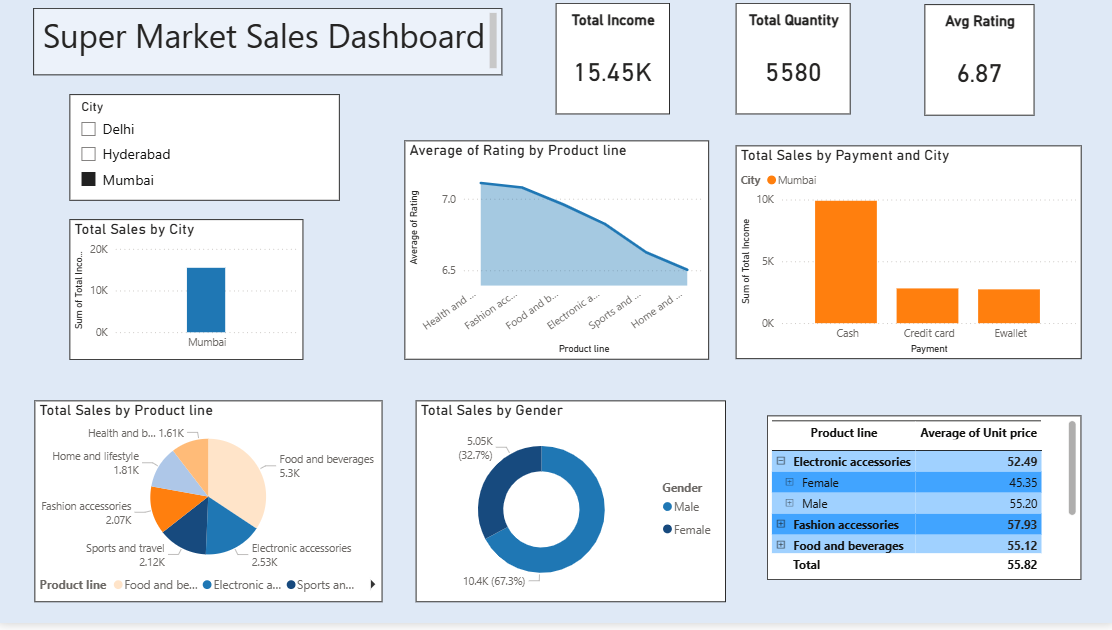

The page's visual inventory and layout, read from the dashboard file:
{"tool":"powerbi","page":{"name":"Page 1","canvas":[1280,720],"ordinal":0},"visuals":[{"type":"textbox","box":[41.4,17.1,535.7,77.1],"z":0},{"type":"columnChart","title":"Total Sales by City","fields":{"Y":["Sum(Realmart Sales Dataset.gross income)"],"Category":["Realmart Sales Dataset.City"]},"box":[82.3,258,267.6,160.5],"z":4000},{"type":"clusteredColumnChart","title":"Total Sales by Payment and City","fields":{"Category":["Realmart Sales Dataset.Payment"],"Y":["Sum(Realmart Sales Dataset.gross income)"],"Series":["Realmart Sales Dataset.City"]},"box":[843.9,174.3,395.2,244.3],"z":5000},{"type":"areaChart","fields":{"Category":["Realmart Sales Dataset.Product line"],"Y":["Avg(Realmart Sales Dataset.Rating)"]},"box":[465,168.3,348.3,250],"z":6000},{"type":"pieChart","title":"Total Sales by Product line","fields":{"Category":["Realmart Sales Dataset.Product line"],"Y":["Sum(Realmart Sales Dataset.gross income)"]},"box":[42.5,465.2,397.9,230.5],"z":7000},{"type":"donutChart","title":"Total Sales by Gender","fields":{"Category":["Realmart Sales Dataset.Gender"],"Y":["Sum(Realmart Sales Dataset.gross income)"]},"box":[478.9,465.2,354,230.5],"z":8000},{"type":"pivotTable","fields":{"Rows":["Realmart Sales Dataset.Product line","Realmart Sales Dataset.Gender","Realmart Sales Dataset.City"],"Values":["Avg(Realmart Sales Dataset.Unit price)"]},"box":[879.6,483,359.5,188],"z":9000},{"type":"slicer","fields":{"Values":["Realmart Sales Dataset.City"]},"box":[82.9,115.7,308.6,121.4],"z":10000},{"type":"card","title":"Total Income ","fields":{"Values":["Sum(Realmart Sales Dataset.Total Income)"]},"box":[638.6,11.4,130,127.1],"z":10001},{"type":"card","title":"Total Quantity","fields":{"Values":["Sum(Realmart Sales Dataset.Quantity)"]},"box":[844.3,11.4,131.4,127.1],"z":10002},{"type":"card","title":"Avg Rating","fields":{"Values":["Avg(Realmart Sales Dataset.Rating)"]},"box":[1060,12.9,125.7,127.1],"z":10003}]}

Visuals, with their boxes in screenshot pixels (x1, y1, x2, y2), scaled from the page's 1280x720 canvas onto the 1112x630 screenshot:
textbox: bbox(36, 15, 501, 82)
"Total Sales by City" columnChart: bbox(71, 226, 304, 366)
"Total Sales by Payment and City" clusteredColumnChart: bbox(733, 153, 1076, 366)
areaChart - Realmart Sales Dataset.Product line x Avg(Realmart Sales Dataset.Rating): bbox(404, 147, 707, 366)
"Total Sales by Product line" pieChart: bbox(37, 407, 383, 609)
"Total Sales by Gender" donutChart: bbox(416, 407, 724, 609)
pivotTable - Realmart Sales Dataset.Product line x Realmart Sales Dataset.Gender: bbox(764, 423, 1076, 587)
slicer - Realmart Sales Dataset.City: bbox(72, 101, 340, 207)
"Total Income " card: bbox(555, 10, 668, 121)
"Total Quantity" card: bbox(733, 10, 848, 121)
"Avg Rating" card: bbox(921, 11, 1030, 122)
